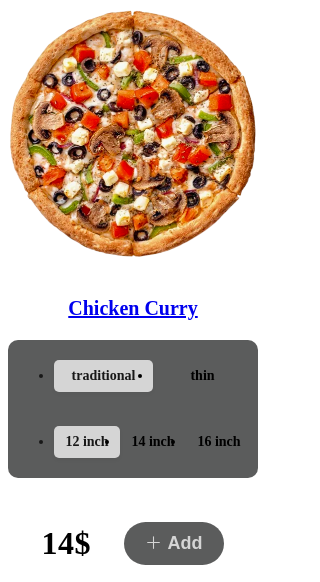
Test case: ProductCard tests › ProductCard price changing › should choose both correct type and size
Click the list item "thin" at (202, 376), box [190,368,214,383]
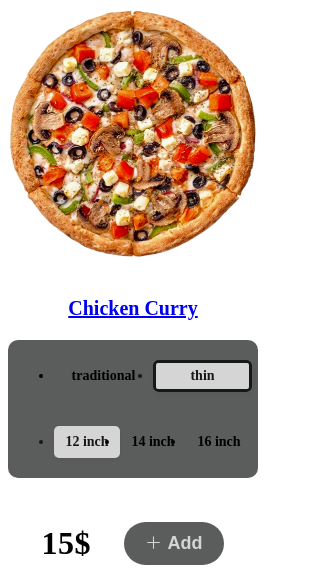
Click the list item "14 inch" at (153, 442), box [131,434,175,449]
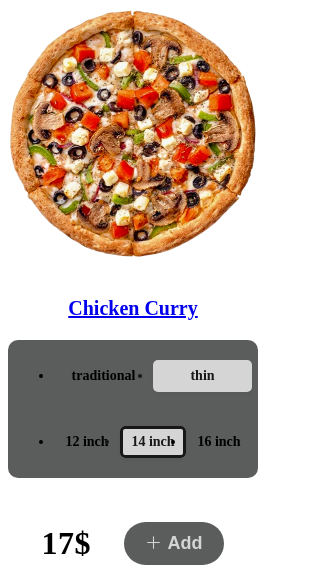
Check: the heading "14$" reads "17$", box [42,530,91,557]
